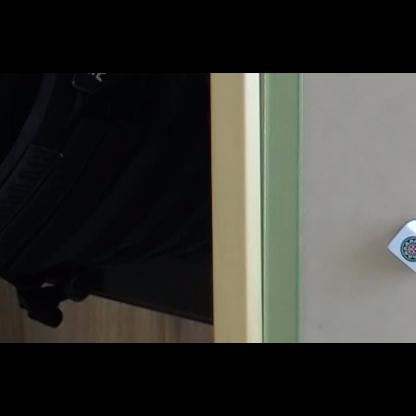1p: (399, 235, 416, 263)
